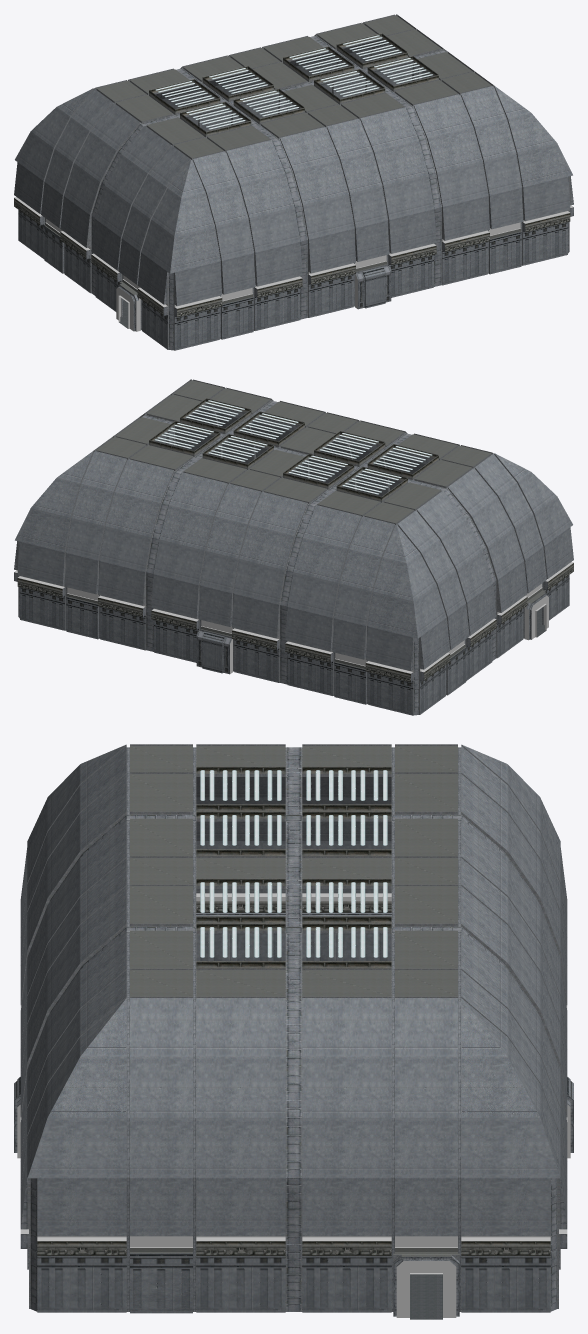
Rendered from poi_all_impl_bunker_warren_s01_r43_bigroom43_mesh_r43.fbx.
3 renders of one model, top to bottom at view 1: azimuth 30°, elevation 25°; view 2: azimuth 150°, elevation 25°; view 3: azimuth 270°, elevation 25°, orthographic. The views are drawn at different scales.
Parts seen in each view (by area): view 1: mesh_node; view 2: mesh_node; view 3: mesh_node.
Part boxes in pixels (box(x1,y1,x2,y2)): mesh_node: box(14, 14, 573, 350); mesh_node: box(14, 379, 573, 715); mesh_node: box(14, 744, 573, 1319).
Bounding box in the file's own units: 50 × 18.7 × 33.8.
